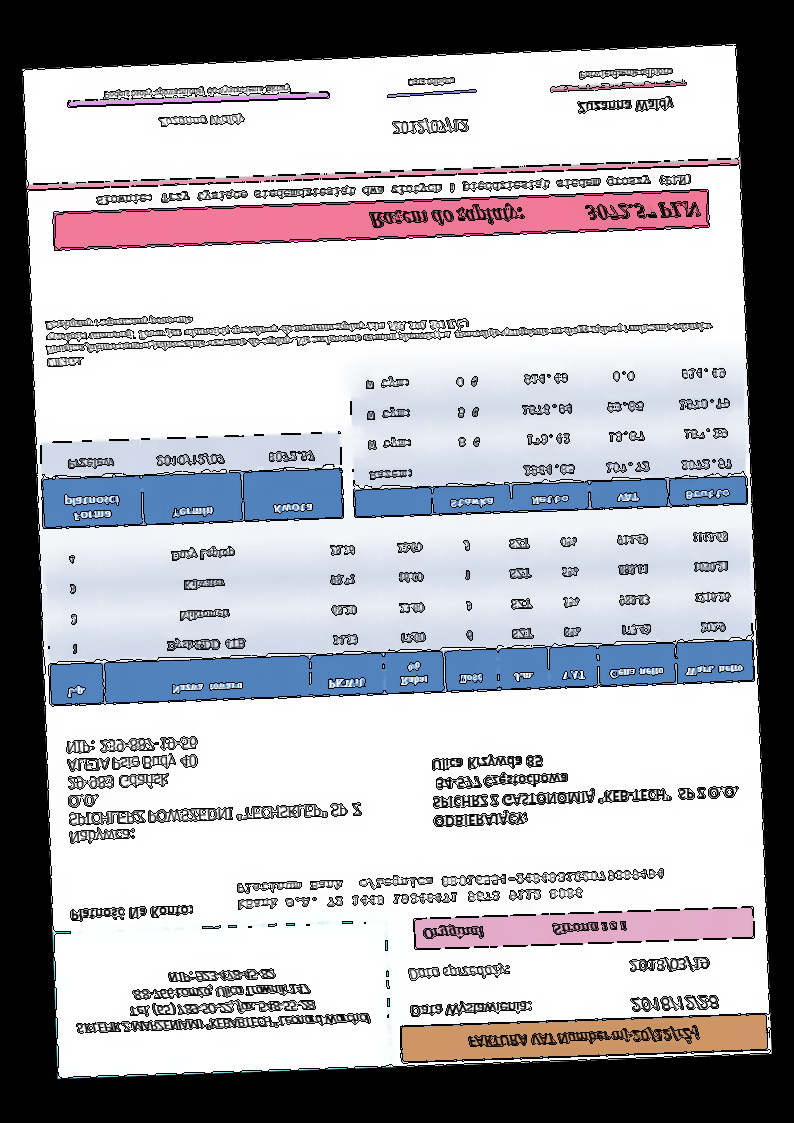Table: (42, 514, 757, 710), (347, 352, 750, 521), (39, 431, 345, 532)
TextBox: (43, 294, 717, 371), (64, 727, 365, 847), (427, 744, 742, 831), (72, 961, 375, 1038), (93, 172, 694, 209), (233, 865, 668, 914), (365, 196, 704, 234), (466, 1024, 703, 1051), (420, 915, 630, 944), (100, 81, 294, 104), (407, 996, 535, 1023), (403, 960, 514, 986), (68, 902, 197, 924), (628, 989, 721, 1016), (574, 95, 677, 119), (577, 63, 675, 86), (154, 111, 248, 133), (387, 115, 470, 139), (625, 954, 712, 975), (404, 73, 457, 92)
